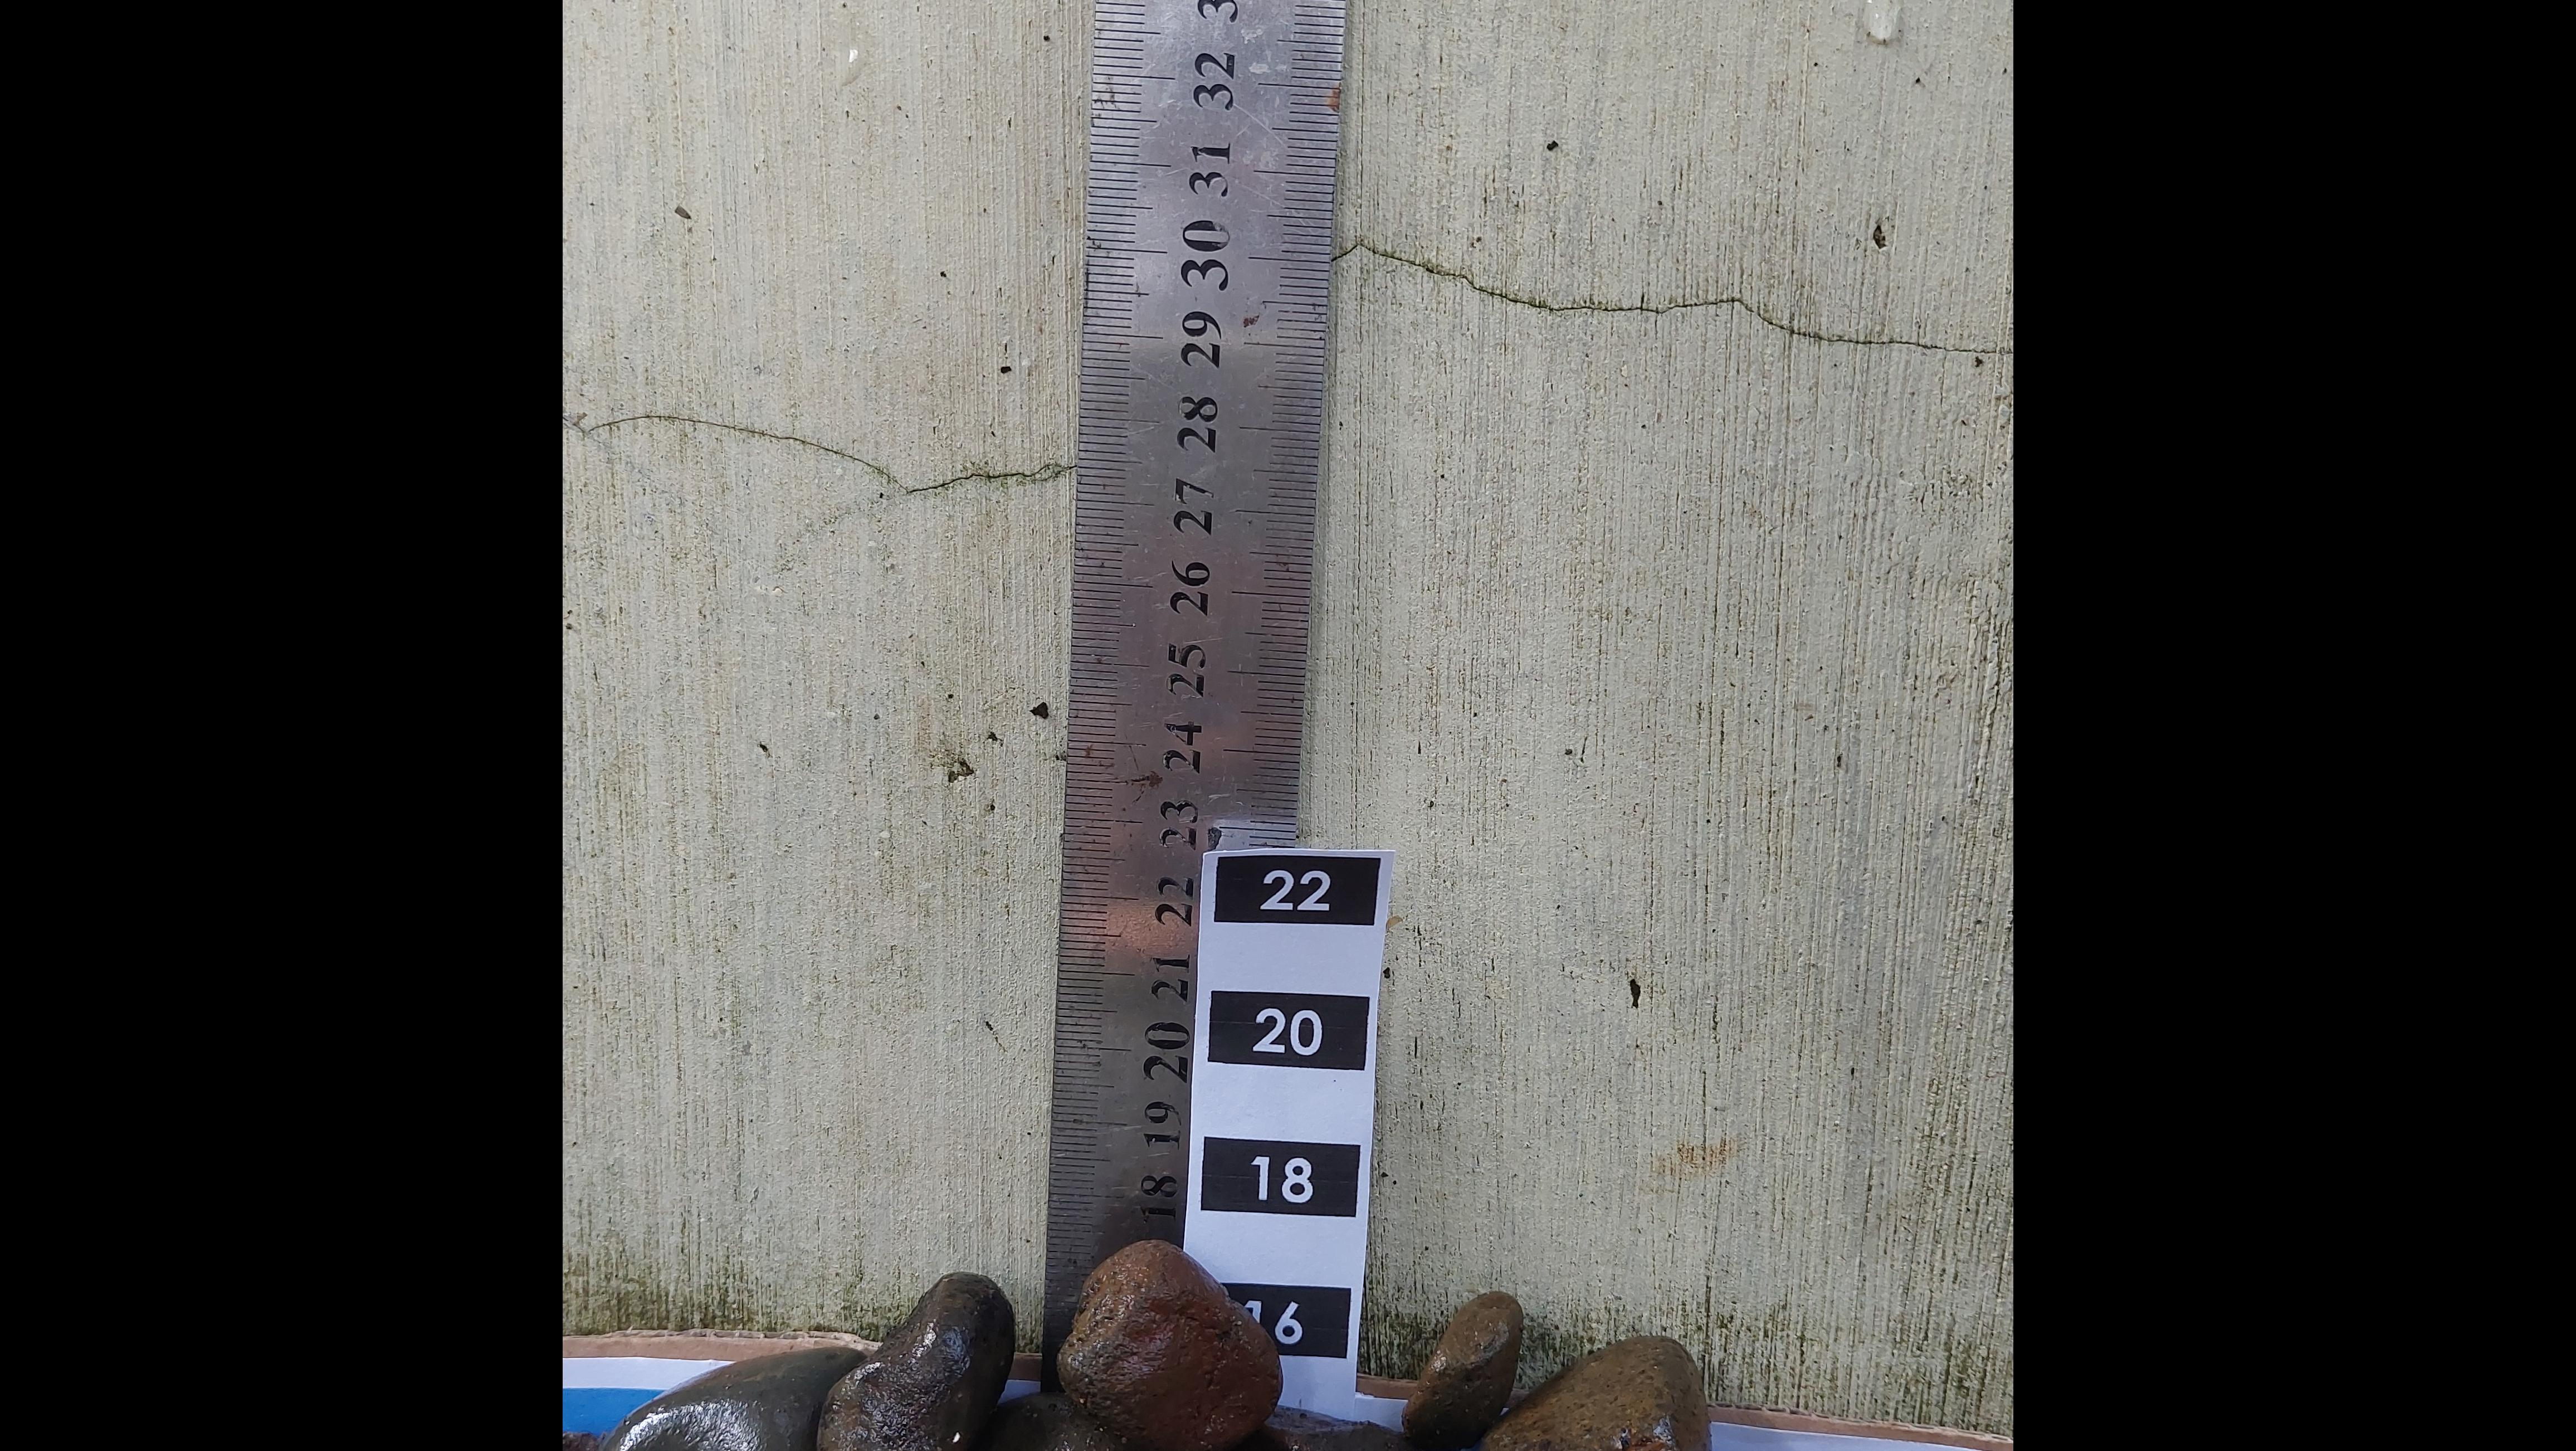kotak_2x1: (1208, 991, 1366, 1072), (1203, 1136, 1359, 1217), (1215, 856, 1373, 925)
